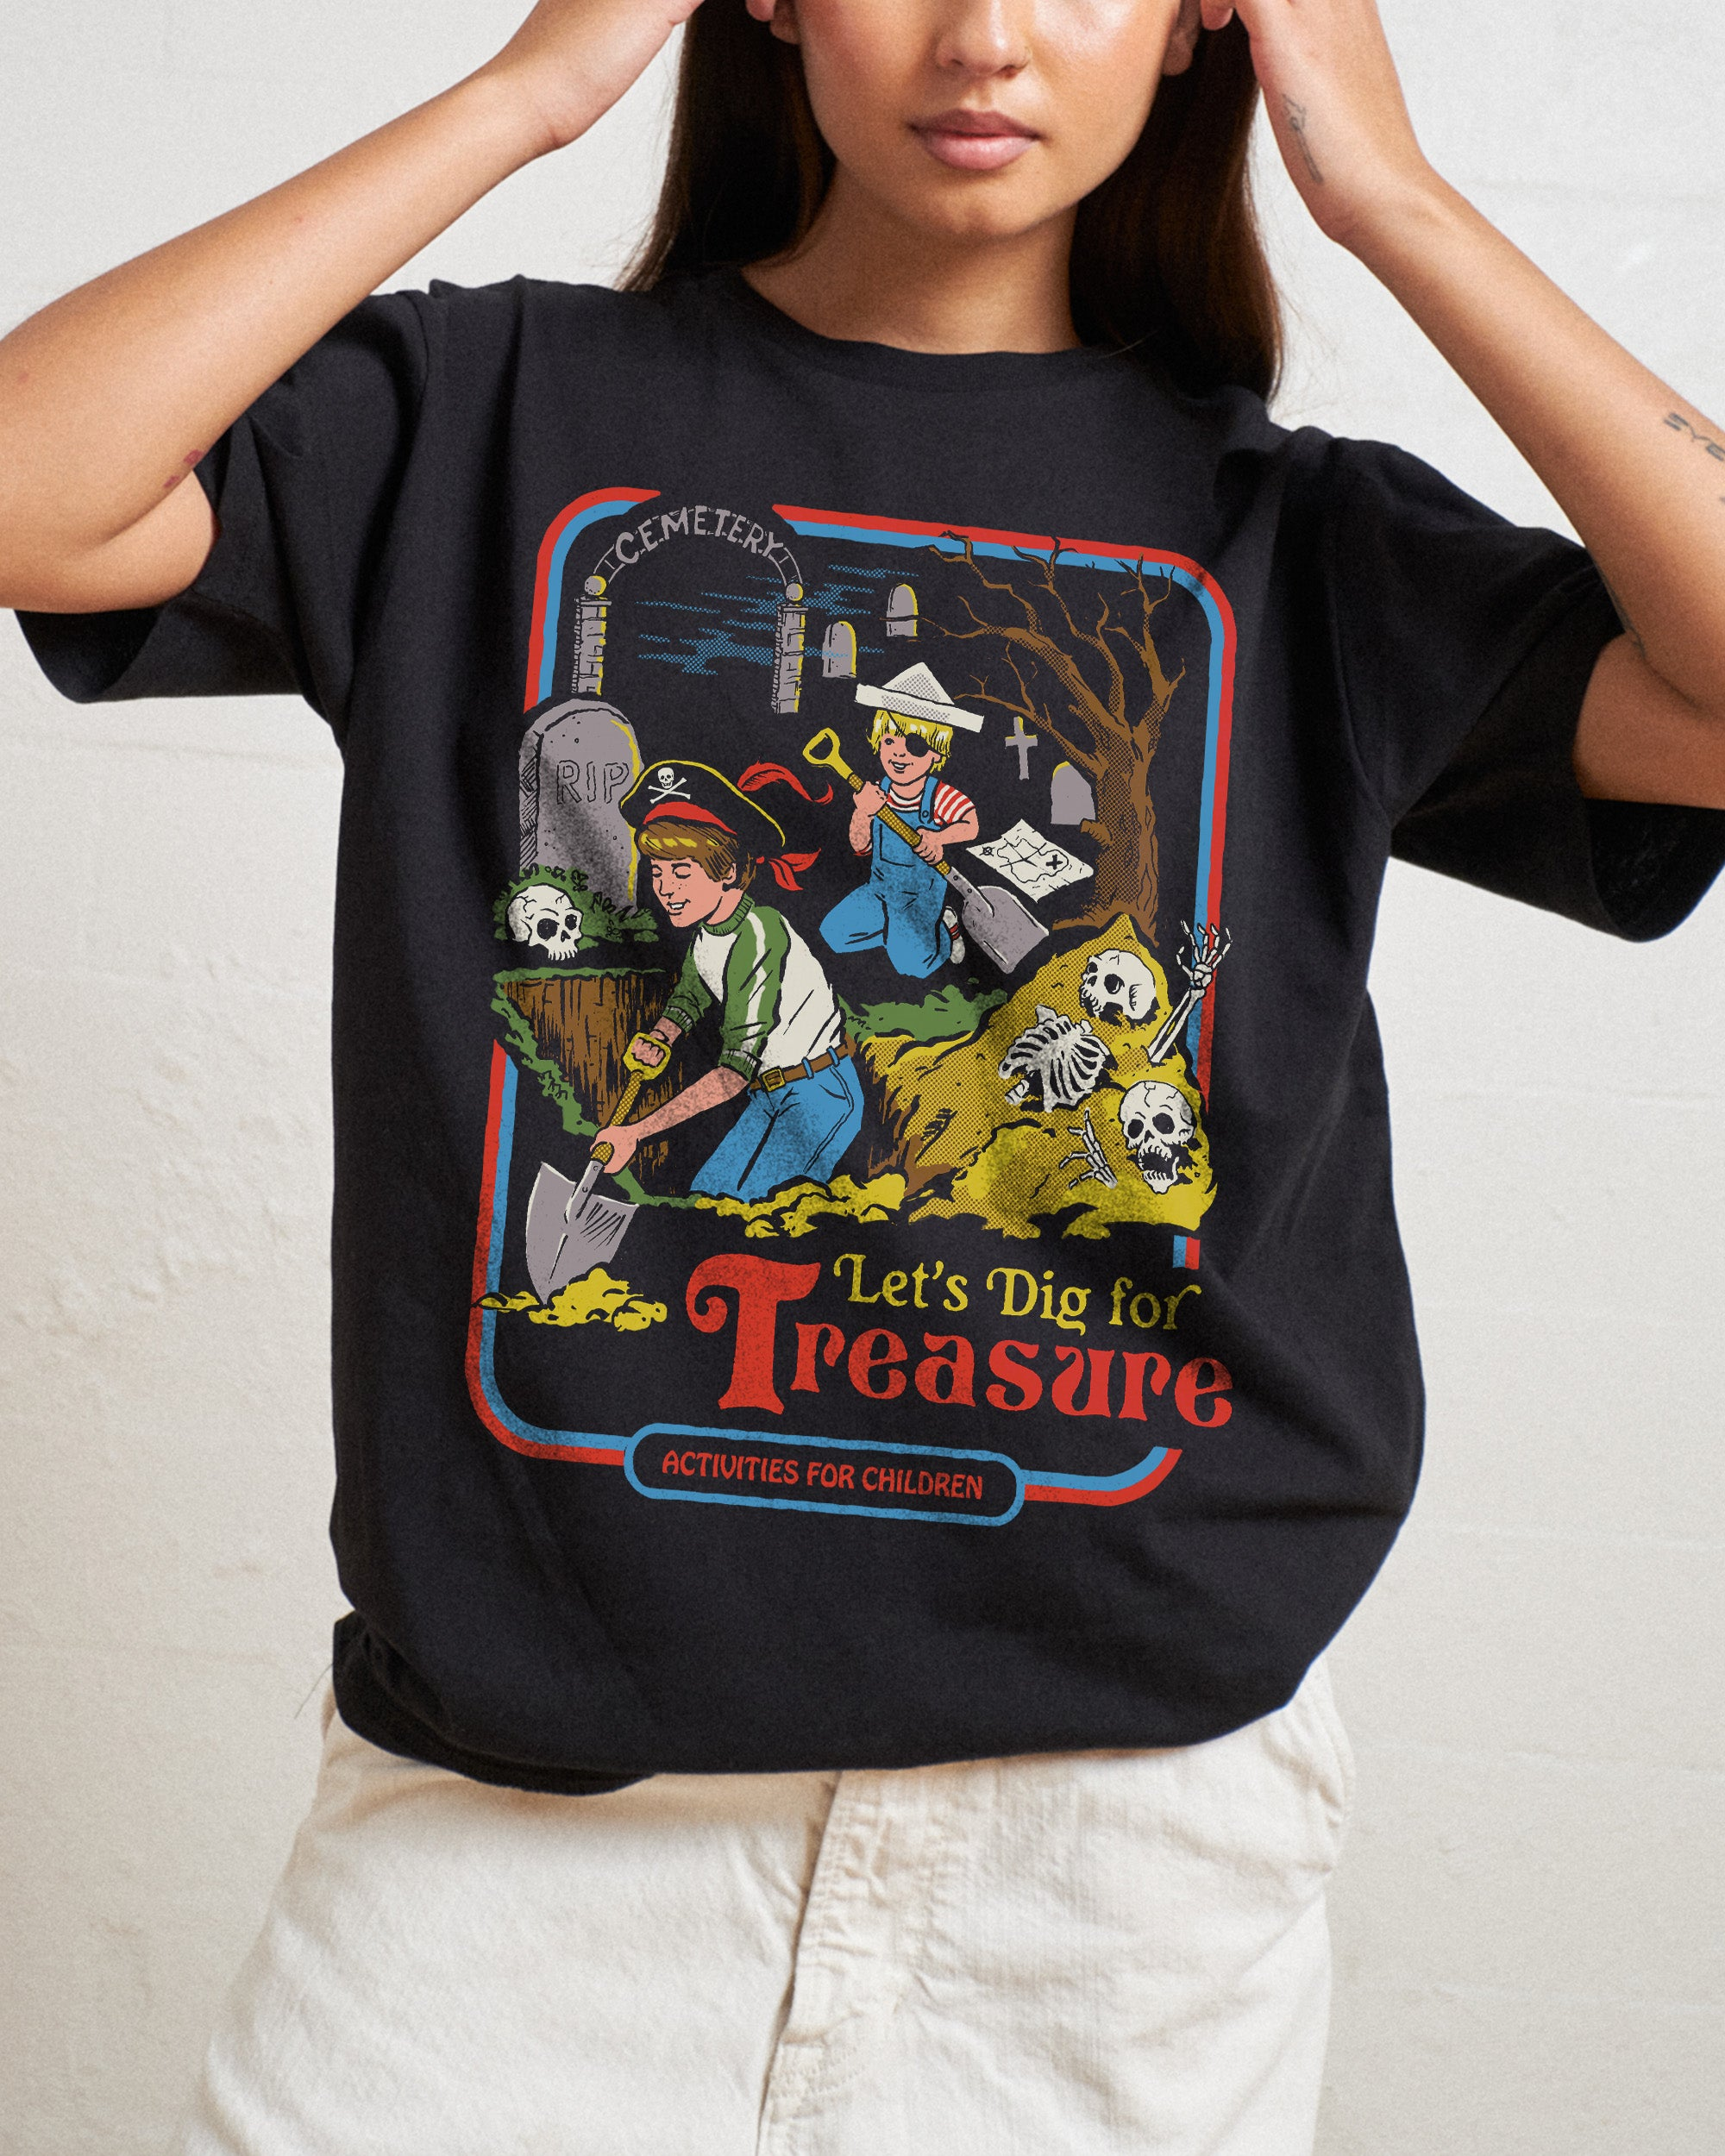design: (449, 475, 1250, 1538)
